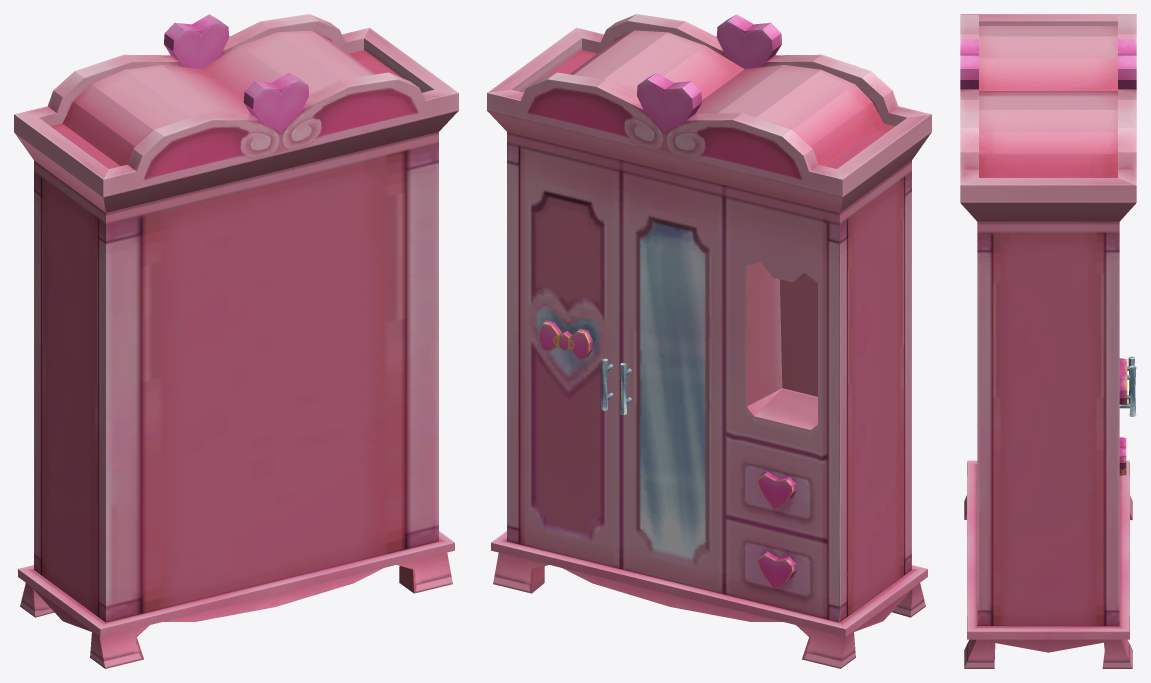
The model's file is furni_0200023.FBX.
The picture shows the model from 3 angles, left to right: view 1: azimuth 30°, elevation 25°; view 2: azimuth 150°, elevation 25°; view 3: azimuth 270°, elevation 25°; orthographic projection.
Visible parts, largest first — view 1: furni_0200023; view 2: furni_0200023; view 3: furni_0200023.
Boxes of the visible parts, x1=… form: furni_0200023: x1=14, y1=14, x2=458, y2=668; furni_0200023: x1=487, y1=14, x2=931, y2=668; furni_0200023: x1=960, y1=14, x2=1136, y2=668.
Size of the model in its own units: 171 by 250 by 74.27.
1 material, 1 textured.
